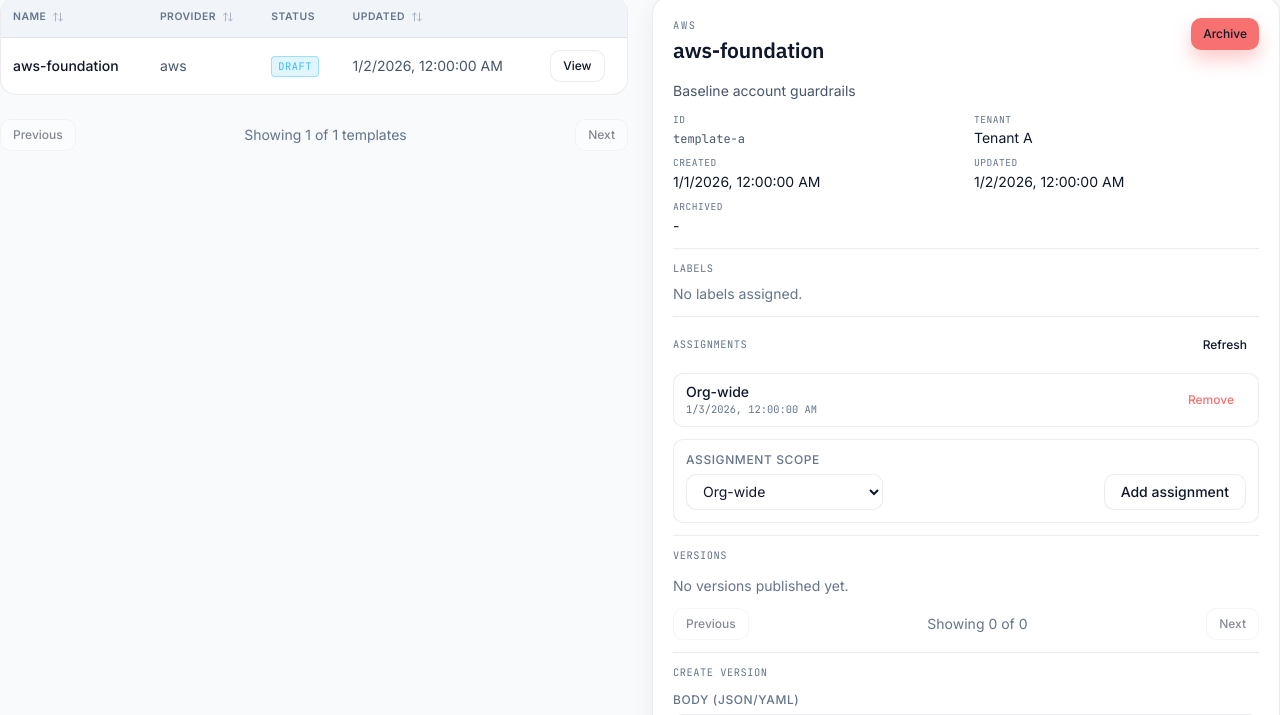
Test: Templates › keeps failed assignment removals inside the confirmation modal
(page scrolled)
Expected: the text "Org-wide" is shown, [686,383,749,400]
Click the button "Remove" at {"x": 1211, "y": 400}, box [1176,384,1246,416]
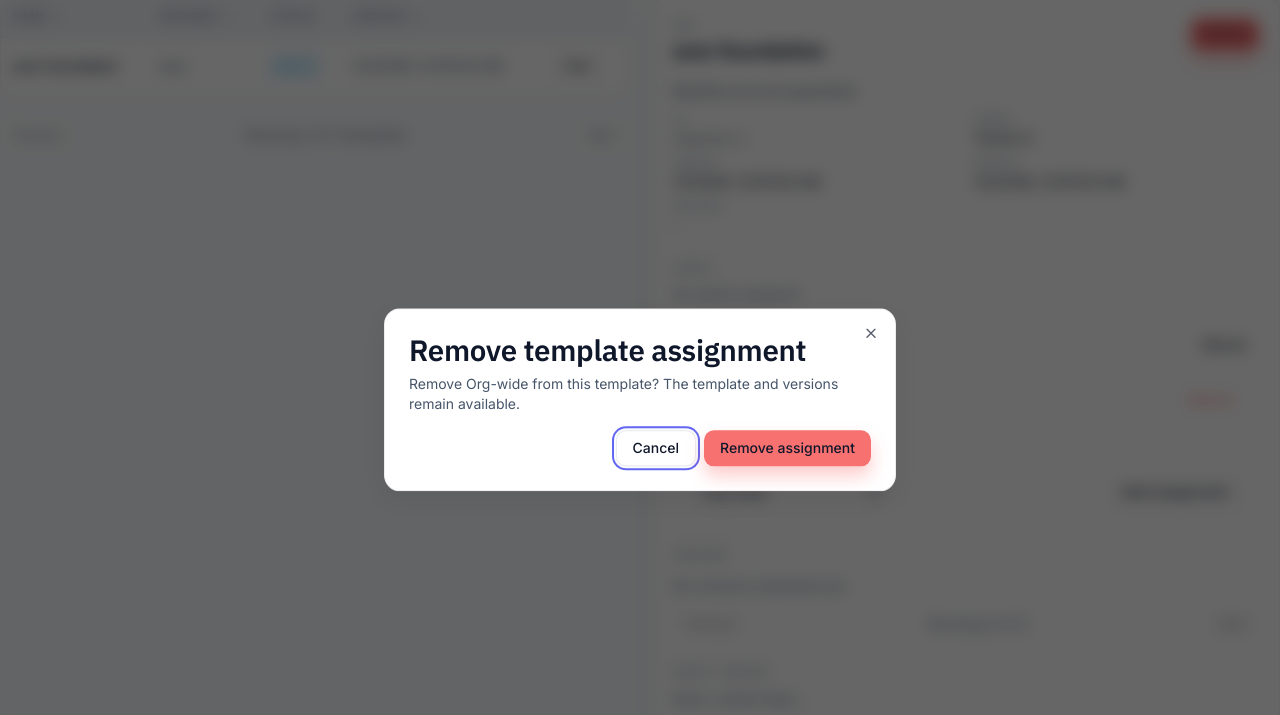
Click the button "Remove assignment" at {"x": 788, "y": 449}, box [704,431,871,467]
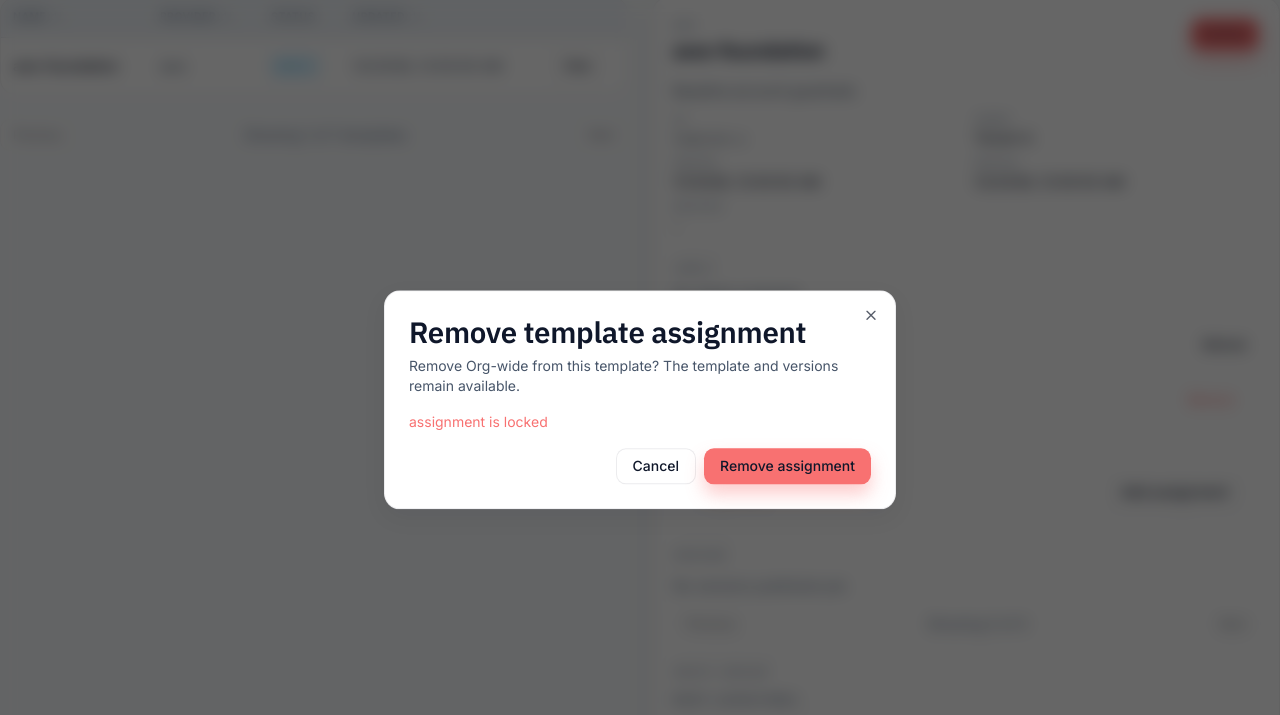
Expected: the dialog "Remove template assignment" is shown, [384,290,896,510]
Expected: the message reads "assignment is locked", [409,414,548,431]
